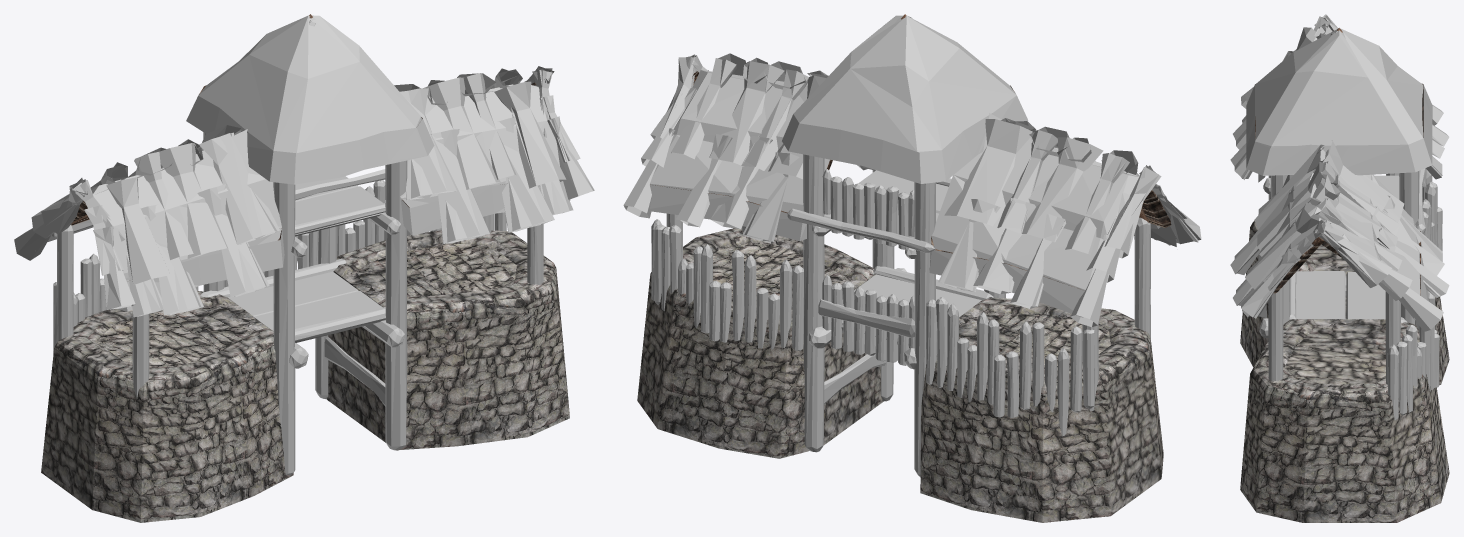
Rendered from TowerGate_1_LOD1.fbx.
3 views of the same model, side by side, from view 1: azimuth 30°, elevation 25°; view 2: azimuth 150°, elevation 25°; view 3: azimuth 270°, elevation 25° (orthographic). The views are drawn at different scales.
Visible parts, largest first — view 1: Stone, Alphas, Wood; view 2: Alphas, Stone, Wood, Roof; view 3: Alphas, Stone, Wood, Roof.
Boxes of the visible parts, x1=… form: Stone: x1=41, y1=230, x2=569, y2=522; Alphas: x1=14, y1=15, x2=594, y2=317; Wood: x1=52, y1=17, x2=543, y2=475; Alphas: x1=623, y1=15, x2=1201, y2=326; Stone: x1=637, y1=228, x2=1163, y2=522; Wood: x1=651, y1=16, x2=1150, y2=477; Roof: x1=650, y1=14, x2=1171, y2=289; Alphas: x1=1230, y1=14, x2=1449, y2=331; Stone: x1=1240, y1=220, x2=1449, y2=522; Wood: x1=1259, y1=30, x2=1442, y2=419; Roof: x1=1255, y1=28, x2=1423, y2=295.
Size of the model in its own units: 1903 by 806 by 1582.
